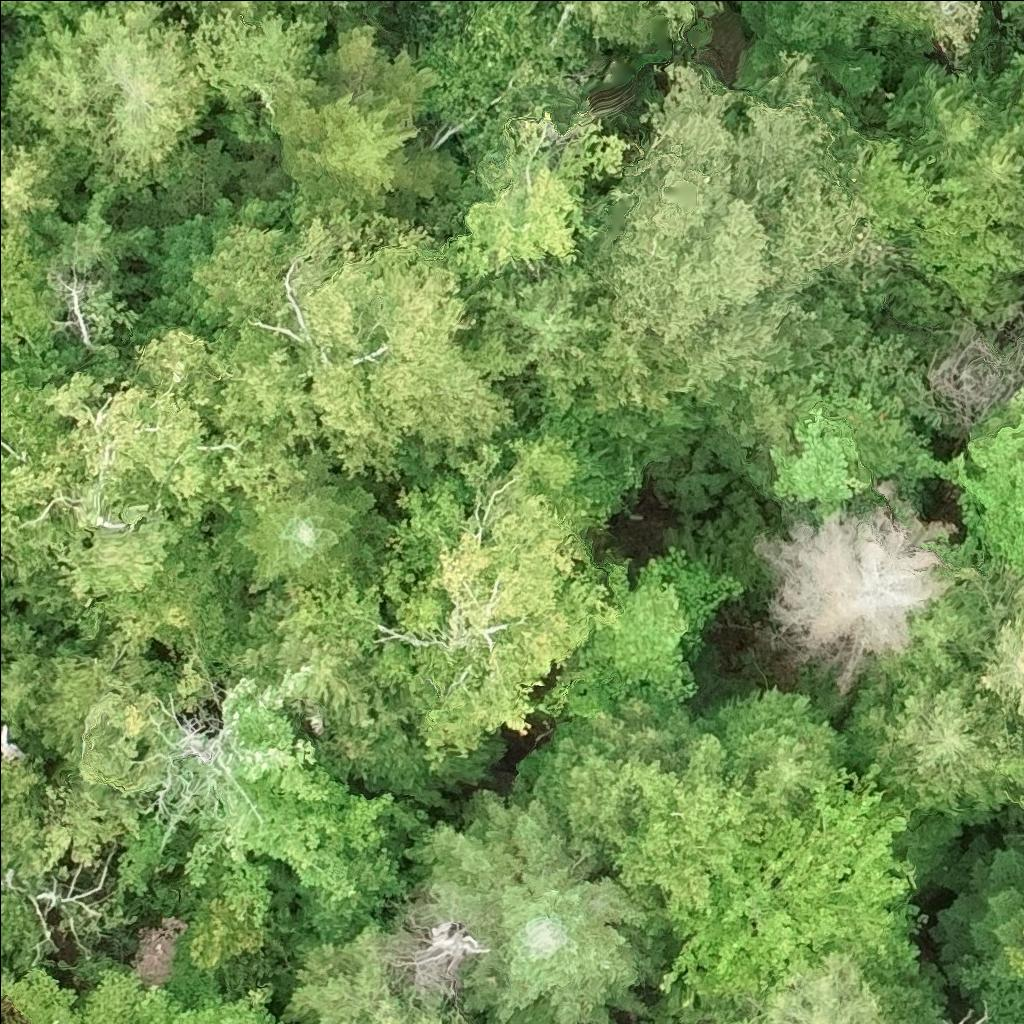crown: (190, 190, 533, 502), (376, 420, 622, 704), (183, 647, 419, 936), (399, 773, 667, 1023), (657, 761, 923, 993), (575, 62, 785, 348), (422, 476, 617, 770), (516, 695, 770, 907), (750, 479, 957, 692), (0, 0, 216, 194), (734, 49, 886, 289), (272, 21, 460, 215), (43, 326, 227, 521), (550, 543, 747, 719), (438, 111, 632, 287), (833, 666, 1023, 826), (416, 0, 588, 158), (211, 447, 390, 594), (282, 918, 474, 1023), (458, 259, 618, 381), (705, 687, 850, 816), (28, 492, 190, 607), (925, 835, 1023, 994), (928, 409, 1023, 571), (0, 366, 71, 582), (190, 2, 328, 112), (759, 945, 948, 1023), (1, 969, 267, 1023), (769, 405, 870, 518), (575, 324, 690, 411), (911, 65, 1016, 155), (940, 108, 1023, 221), (736, 0, 831, 96), (0, 104, 72, 223), (0, 217, 60, 357), (972, 565, 1023, 719), (550, 0, 695, 48), (641, 973, 766, 1023), (0, 750, 46, 875), (277, 0, 390, 44), (175, 0, 280, 20), (0, 0, 87, 24), (1005, 755, 1023, 805), (1002, 944, 1023, 975), (997, 0, 1023, 19), (1015, 85, 1023, 120), (1020, 246, 1023, 264), (1021, 213, 1023, 239), (1023, 145, 1023, 146)
